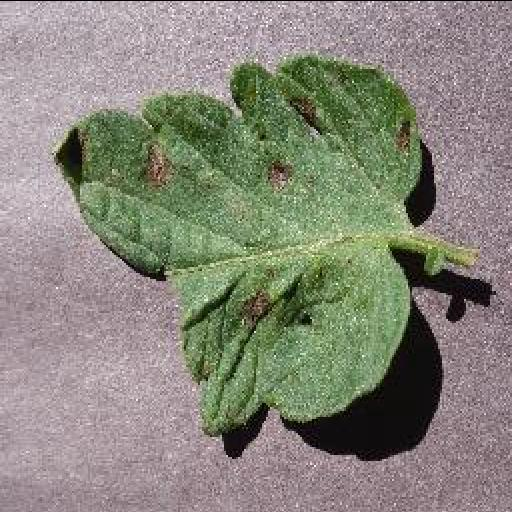disease_tomato: (55, 54, 425, 434)
